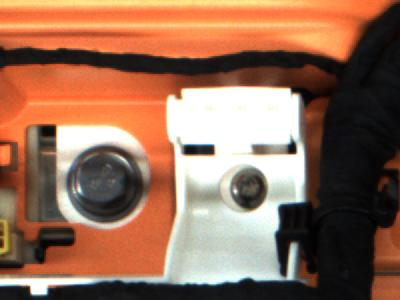nut_b: (62, 148, 147, 223)
screw_m: (220, 160, 273, 212)
